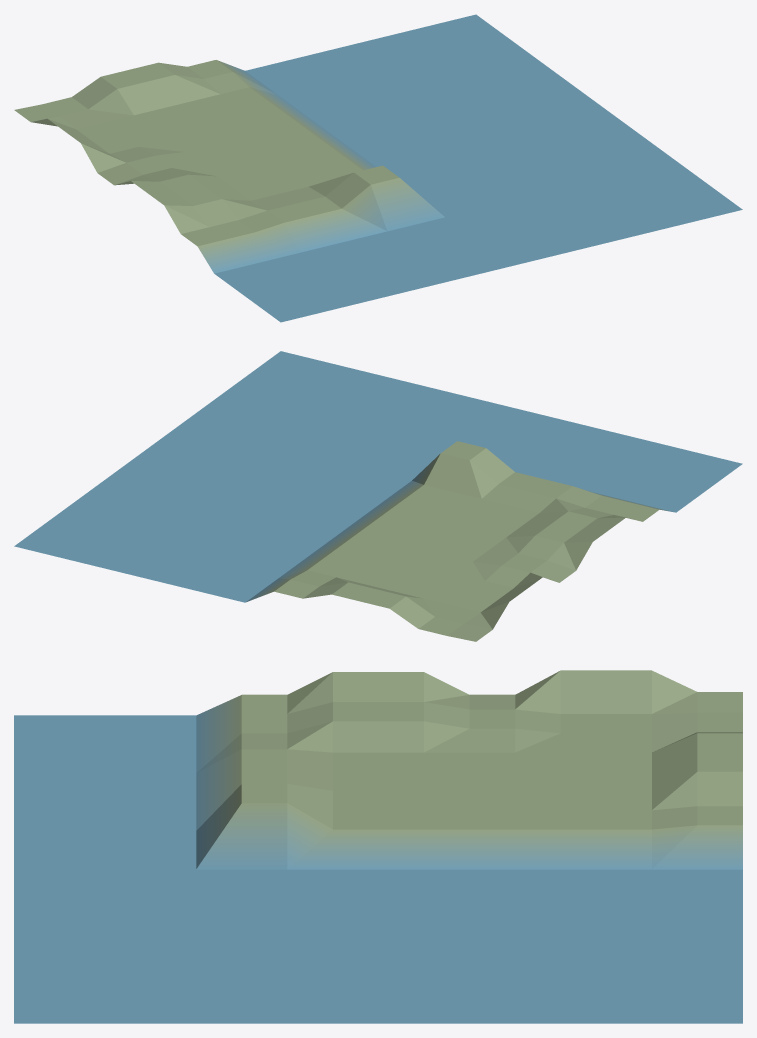
The picture shows the model from 3 angles, top to bottom: view 1: azimuth 30°, elevation 25°; view 2: azimuth 150°, elevation 25°; view 3: azimuth 270°, elevation 25°; orthographic projection. The views are drawn at different scales.
Size of the model in its own units: 32 by 2.28 by 32.
